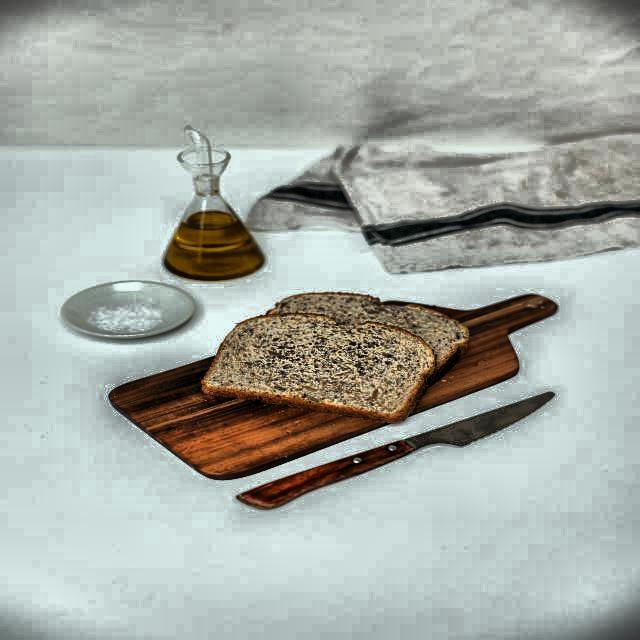knife: (226, 390, 566, 512)
